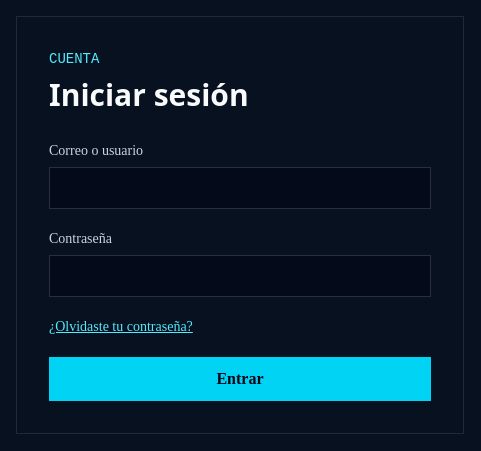
LoginForm › inicia sesión y redirige al panel según el rol
The width and height of the screenshot is (481, 451).
In the field labelled "Correo o usuario": coordinates (240, 188) [49,167,431,209], type "estudiante@correo.com"
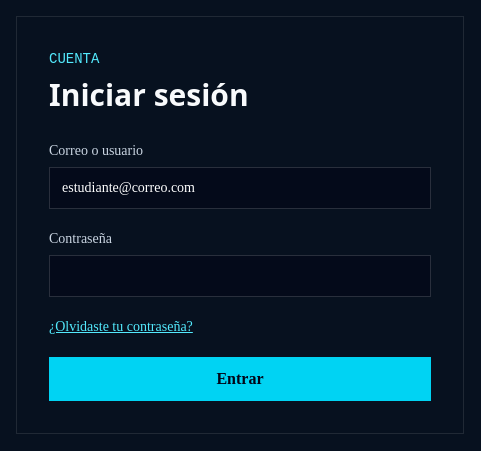
In the password field labelled "Contraseña": coordinates (240, 276) [49,255,431,297], type "contrasena-segura"
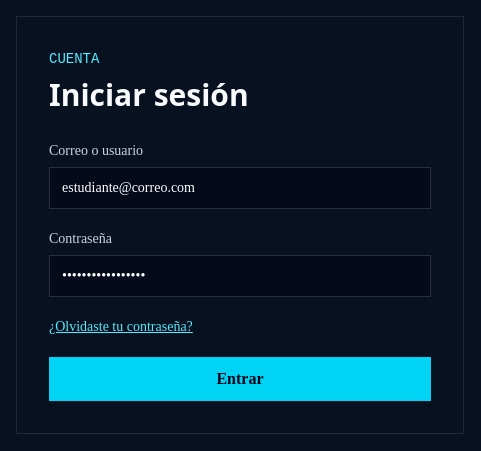
Click the button "Entrar": coordinates (240, 379) [49,357,431,401]
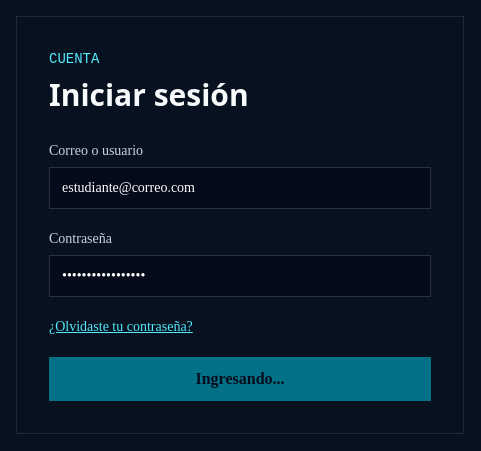
Expected: the button "Ingresando..." is disabled, [49,357,431,401]
